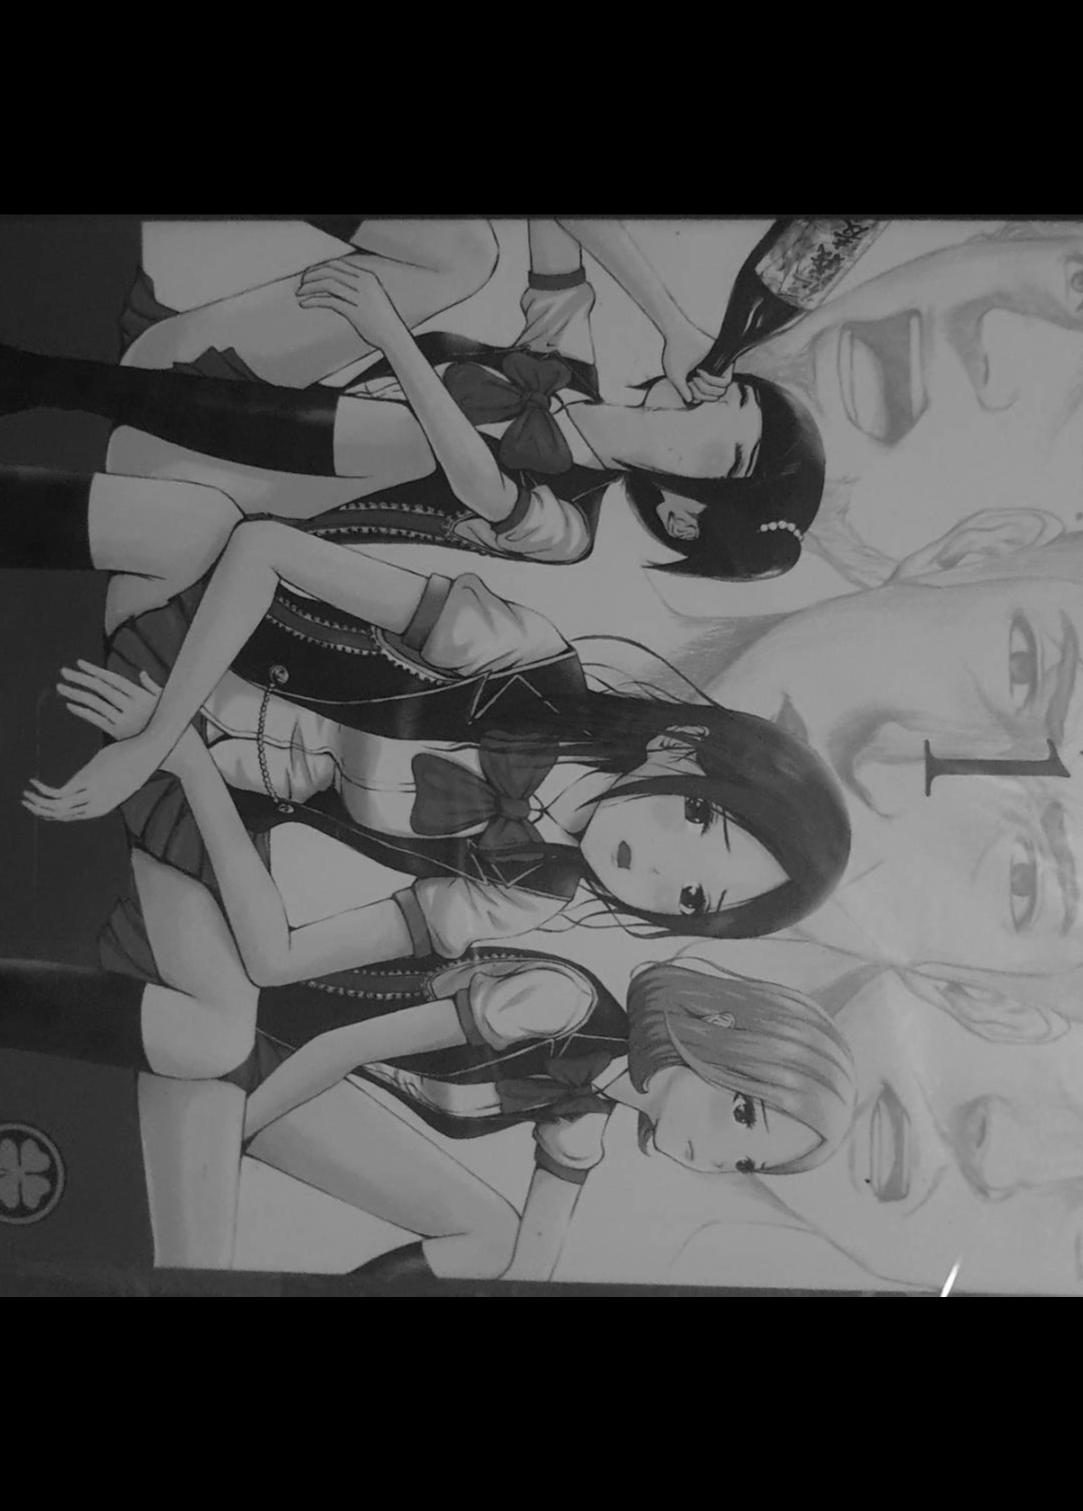Zenshu: (0, 250, 1083, 1251)
